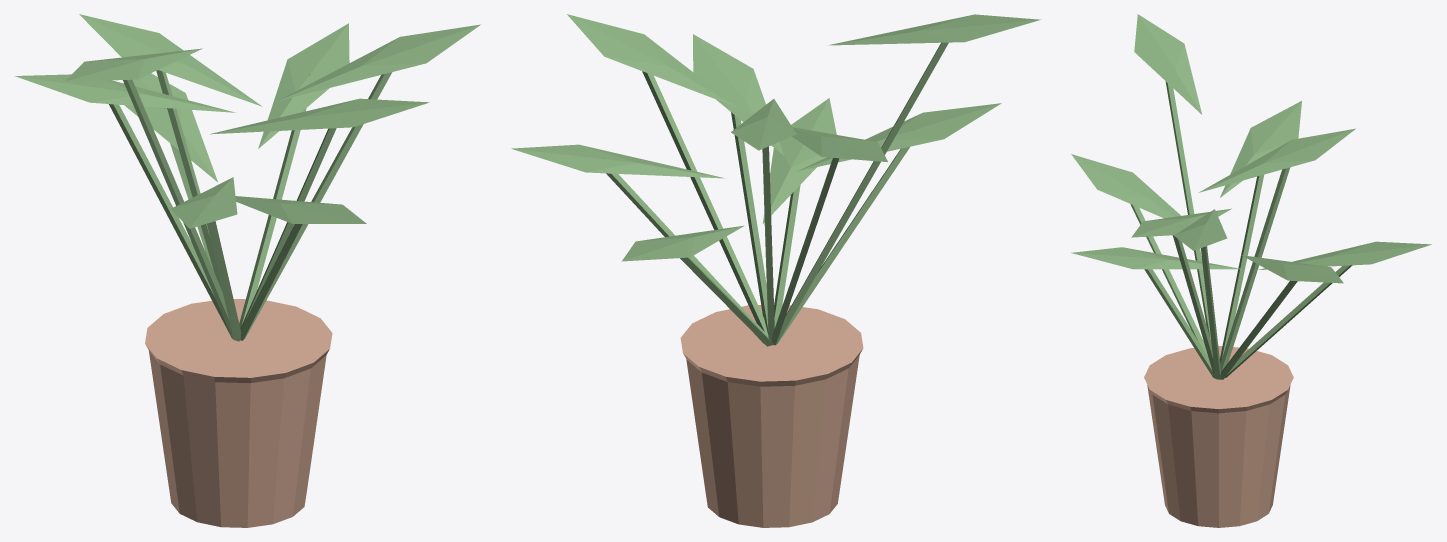
Rendered from plant.glb.
The picture shows the model from 3 angles, left to right: view 1: azimuth 30°, elevation 25°; view 2: azimuth 150°, elevation 25°; view 3: azimuth 270°, elevation 25°; orthographic projection. The views are drawn at different scales.
Parts seen in each view (by area): view 1: plant_plant, plant_pot; view 2: plant_plant, plant_pot; view 3: plant_plant, plant_pot.
Boxes of the visible parts, x1,y1,x2,y2 form: plant_plant: (15,14,480,341); plant_pot: (145,299,332,527); plant_plant: (511,14,1040,346); plant_pot: (680,304,863,527); plant_plant: (1071,14,1431,379); plant_pot: (1144,346,1293,527).
Bounding box in the file's own units: 1.38 × 1.49 × 1.21.
